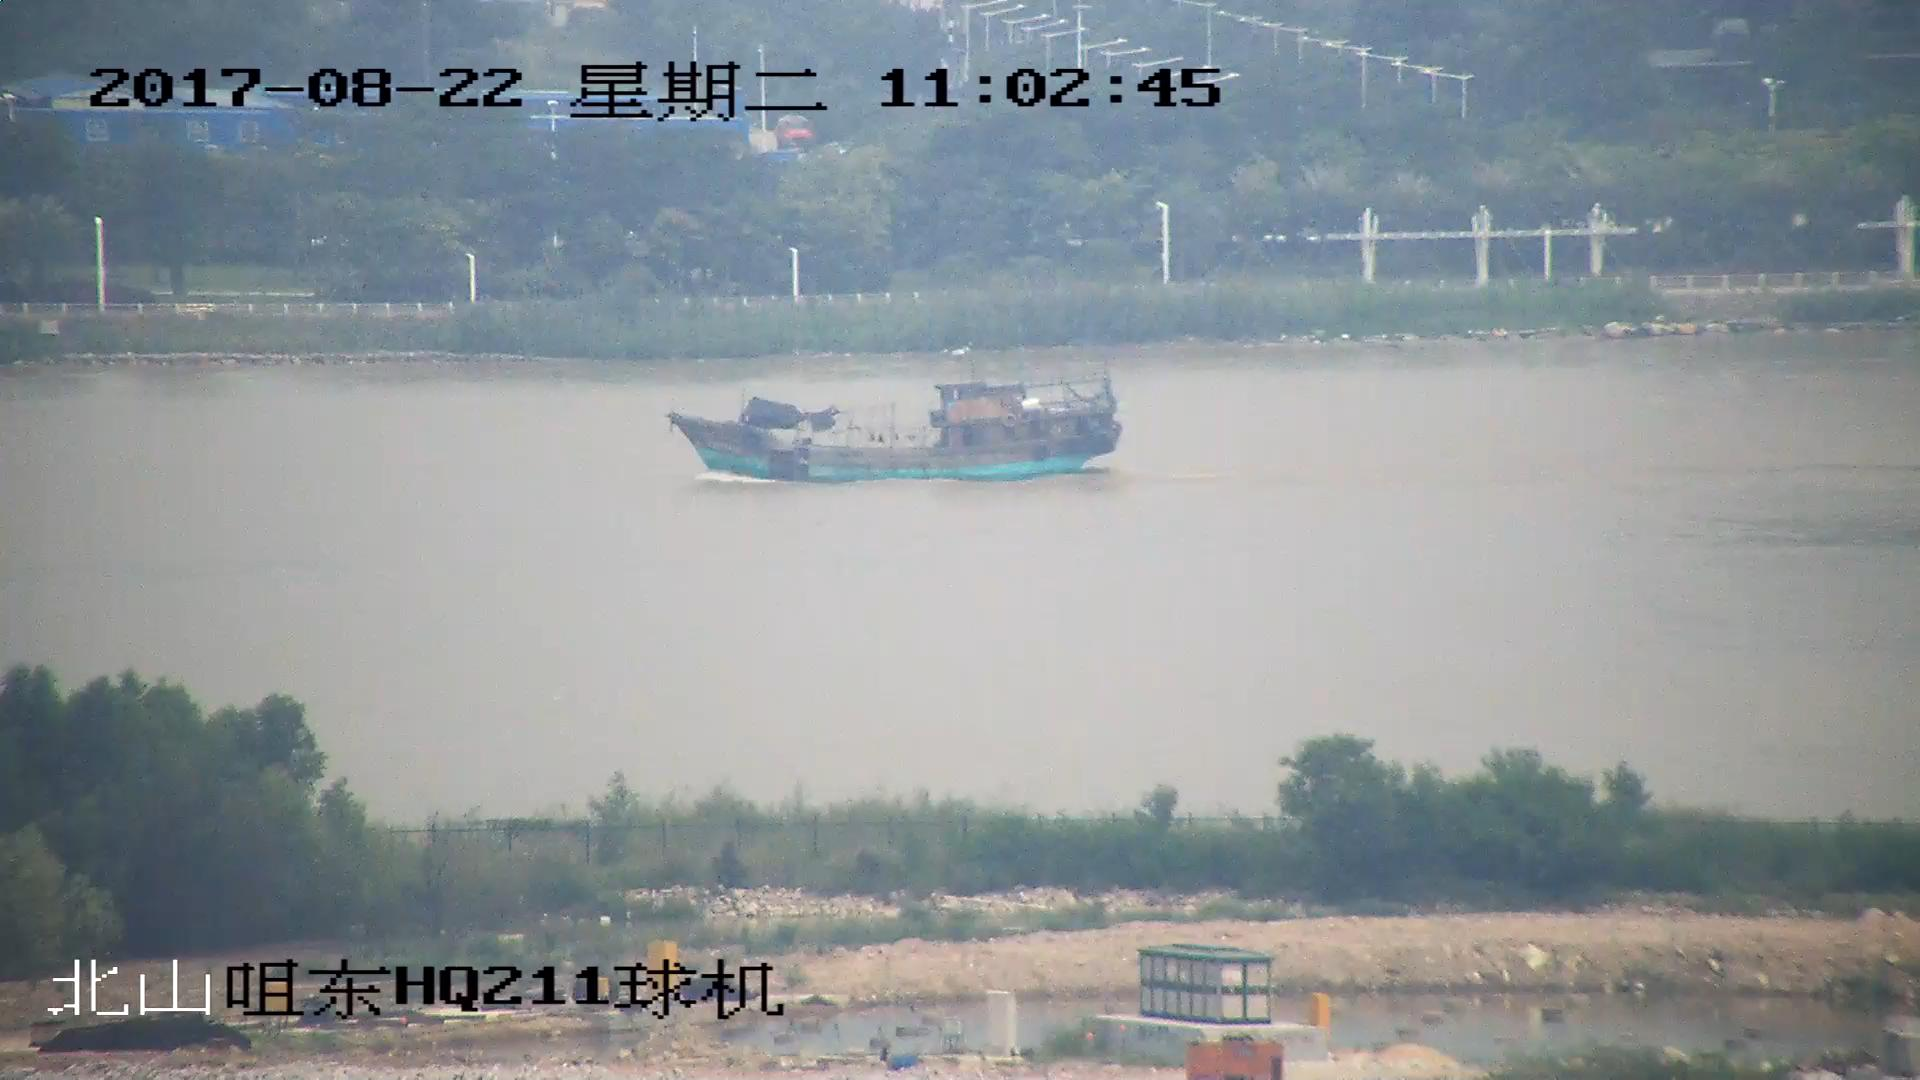fishing boat: (668, 367, 1121, 481)
